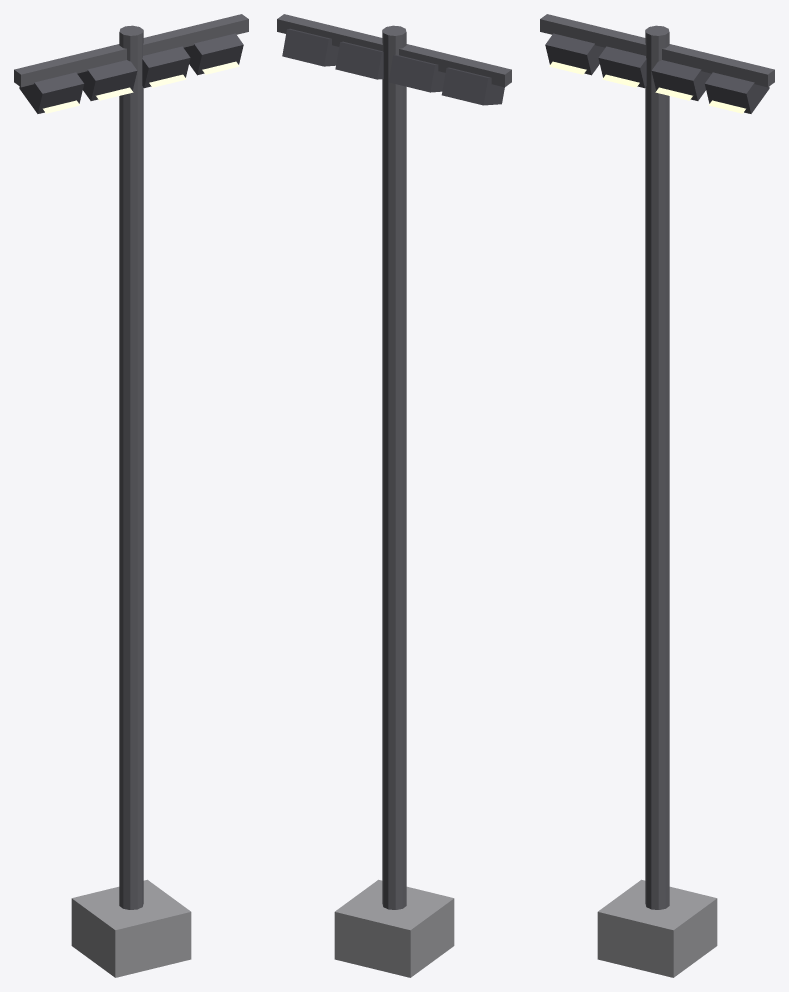
Rendered from bt-d2-floodlight.glb.
3 views of the same model, side by side, from view 1: azimuth 30°, elevation 25°; view 2: azimuth 150°, elevation 25°; view 3: azimuth 330°, elevation 25° (orthographic).
Visible parts, largest first — view 1: bt-d2-floodlight_pole, bt-d2-floodlight_base, bt-d2-floodlight_arm, bt-d2-floodlight_head0, bt-d2-floodlight_head1, bt-d2-floodlight_head3, bt-d2-floodlight_head2; view 2: bt-d2-floodlight_pole, bt-d2-floodlight_base, bt-d2-floodlight_arm, bt-d2-floodlight_head0, bt-d2-floodlight_head1, bt-d2-floodlight_head3, bt-d2-floodlight_head2; view 3: bt-d2-floodlight_pole, bt-d2-floodlight_base, bt-d2-floodlight_arm, bt-d2-floodlight_head3, bt-d2-floodlight_head2, bt-d2-floodlight_head0, bt-d2-floodlight_head1.
Part boxes in pixels (box(x1,y1,x2,y2)): bt-d2-floodlight_pole: box(119, 25, 143, 909); bt-d2-floodlight_base: box(71, 879, 191, 977); bt-d2-floodlight_arm: box(14, 14, 248, 87); bt-d2-floodlight_head0: box(19, 72, 84, 113); bt-d2-floodlight_head1: box(77, 60, 137, 100); bt-d2-floodlight_head3: box(184, 33, 243, 75); bt-d2-floodlight_head2: box(142, 46, 190, 88); bt-d2-floodlight_pole: box(382, 25, 406, 909); bt-d2-floodlight_base: box(334, 879, 454, 977); bt-d2-floodlight_arm: box(277, 14, 511, 87); bt-d2-floodlight_head0: box(441, 67, 504, 105); bt-d2-floodlight_head1: box(388, 55, 445, 92); bt-d2-floodlight_head3: box(282, 28, 339, 66); bt-d2-floodlight_head2: box(335, 41, 383, 79); bt-d2-floodlight_pole: box(645, 25, 669, 909); bt-d2-floodlight_base: box(597, 879, 717, 977); bt-d2-floodlight_arm: box(540, 14, 774, 87); bt-d2-floodlight_head3: box(704, 72, 769, 113); bt-d2-floodlight_head2: box(651, 60, 711, 100); bt-d2-floodlight_head0: box(545, 33, 604, 75); bt-d2-floodlight_head1: box(598, 46, 646, 88).
Bounding box in the file's own units: 3 × 11.6 × 1.
